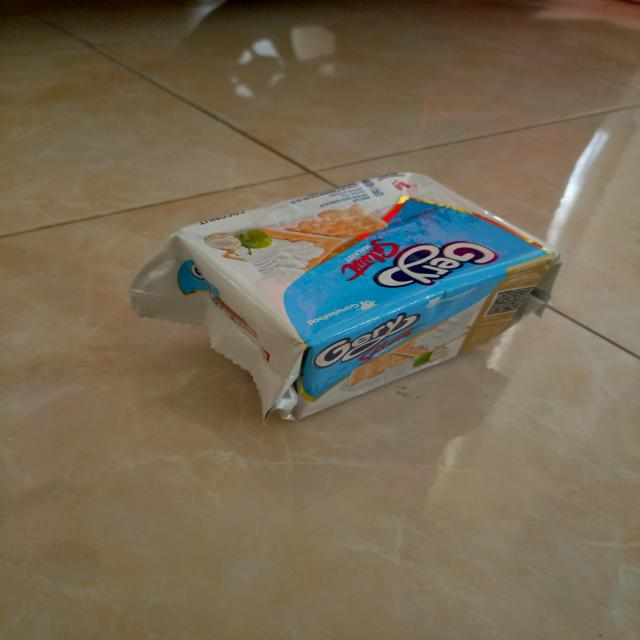gery-salut-coconut: (130, 170, 564, 424)
